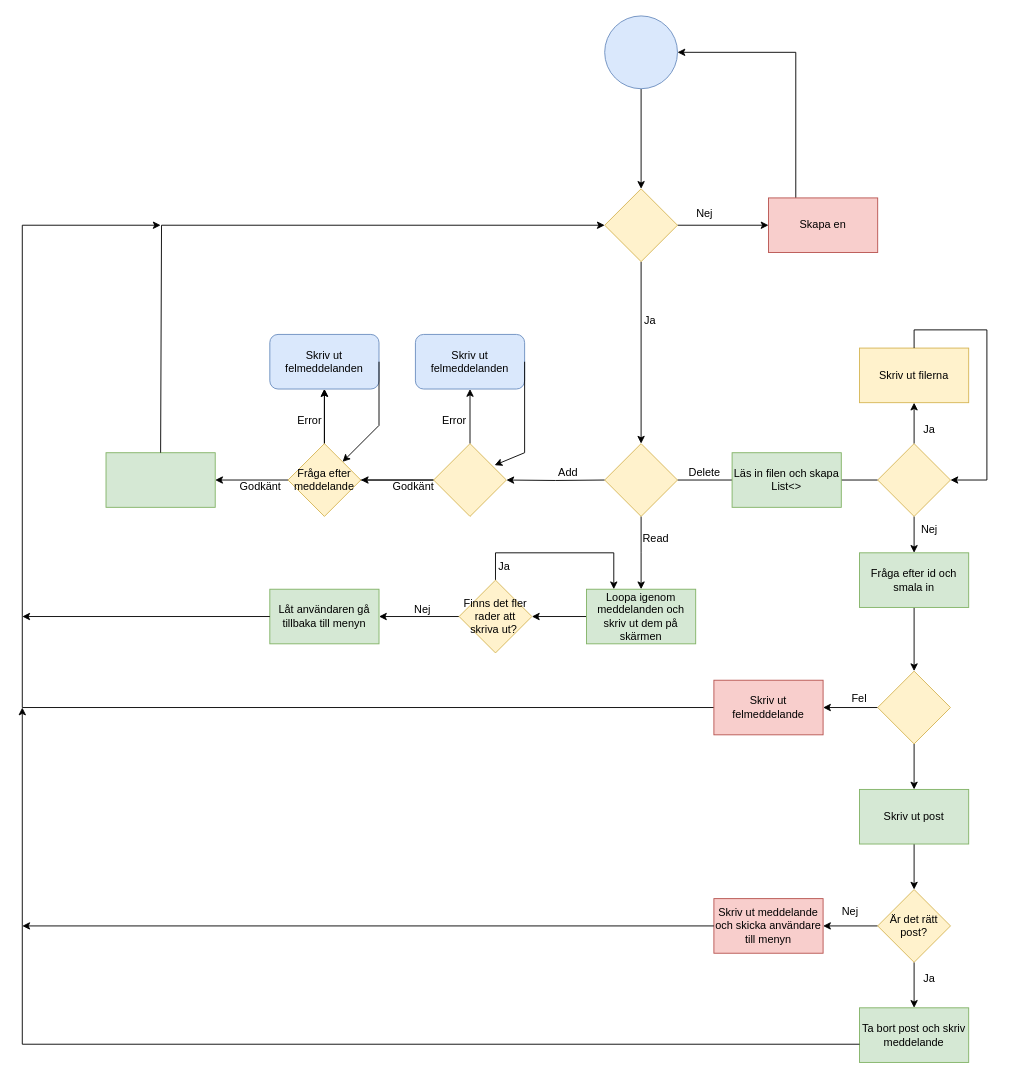
Some shapes in this 1010 by 1078 pixel diagram are drawn without their labels. Each missing label, with the centre of its shape:
"Finns det fler rader att läsa in?" belongs at point (913, 479).
"Finns post filen?" belongs at point (640, 225).
"Fråga efter namn" belongs at point (469, 479).
"Kontrollera id" belongs at point (913, 707).
"Lägg till i text fil och skriv ett meddelande" belongs at point (160, 479).
"Meny" belongs at point (640, 479).
"Starta program" belongs at point (640, 52).
